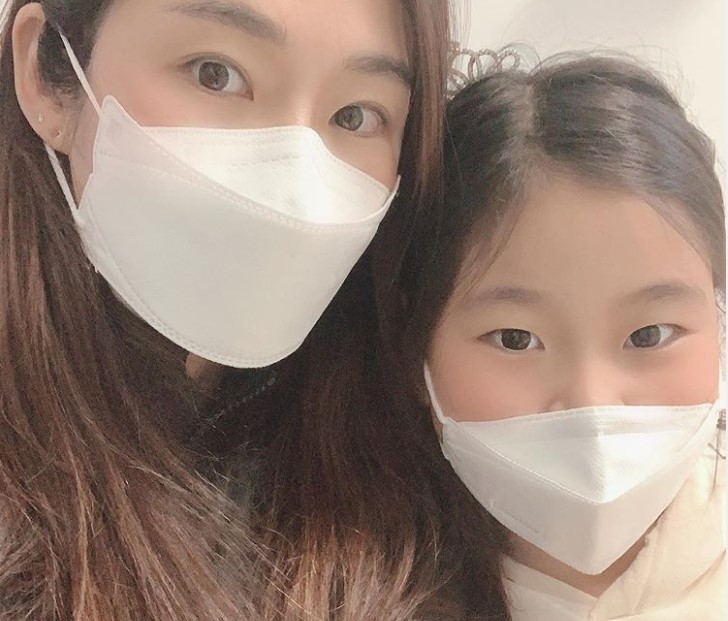face_with_mask: (399, 71, 718, 581), (4, 1, 431, 372)
